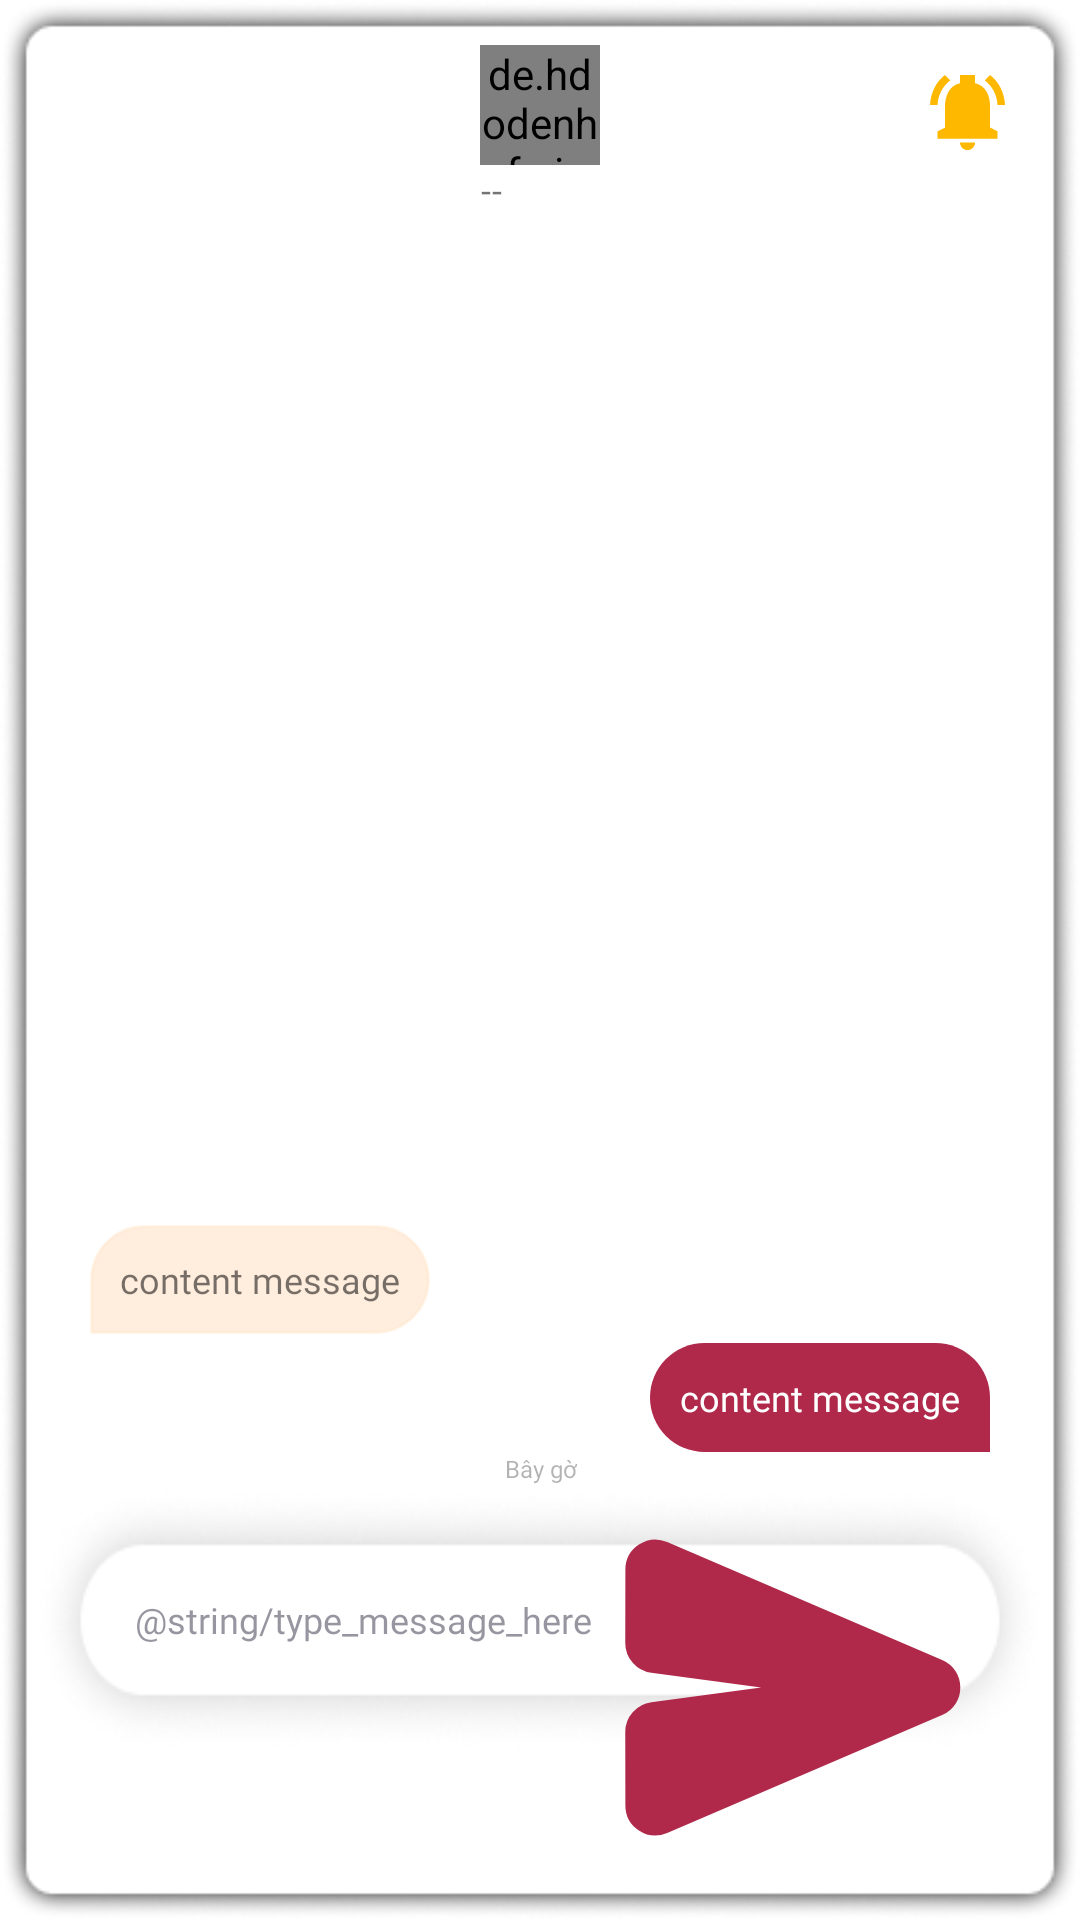

Screen size 1080x1920. Icon name, then its center in pixels as [x,y]:
Gửi: [793,1687]
Thông báo: [967,112]
